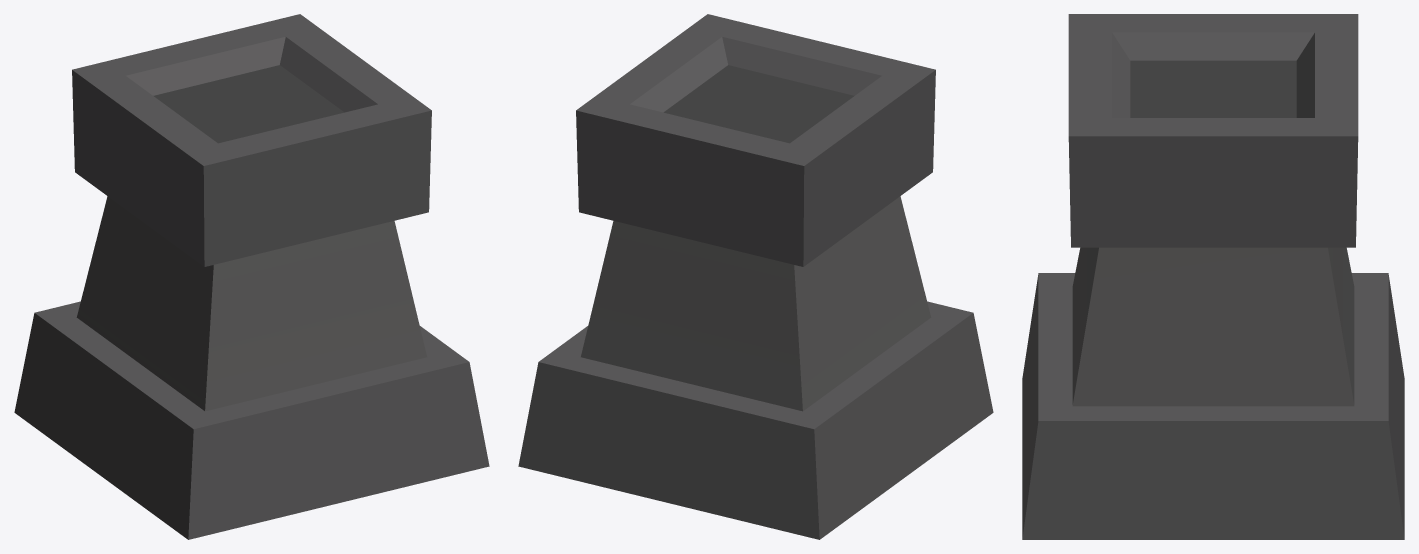
Rendered from Chimney_3_A_3.fbx.
3 renders of one model, left to right at view 1: azimuth 30°, elevation 25°; view 2: azimuth 150°, elevation 25°; view 3: azimuth 270°, elevation 25°, orthographic. The views are drawn at different scales.
Parts seen in each view (by area): view 1: Chimney_3_A_3; view 2: Chimney_3_A_3; view 3: Chimney_3_A_3.
Part boxes in pixels (x1,y1,x2,y2): Chimney_3_A_3: (14, 14, 489, 539); Chimney_3_A_3: (518, 14, 993, 539); Chimney_3_A_3: (1022, 14, 1404, 539).
Bounding box in the file's own units: 53.03 × 58.79 × 53.03.
